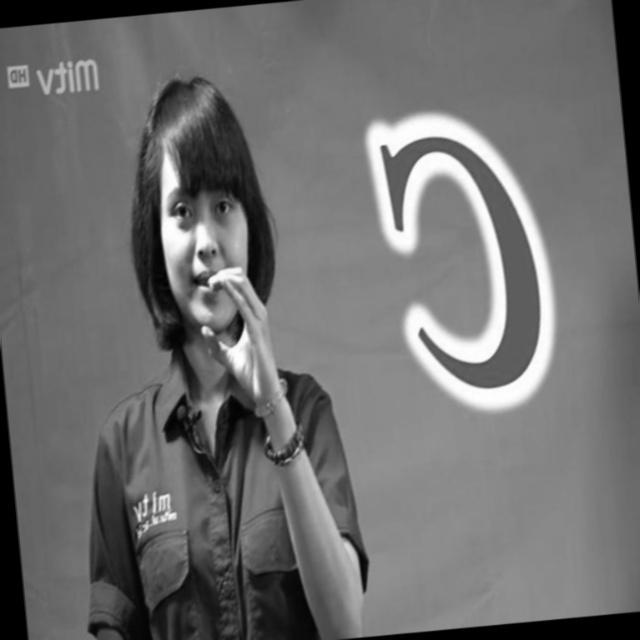C: (192, 269, 276, 380)
